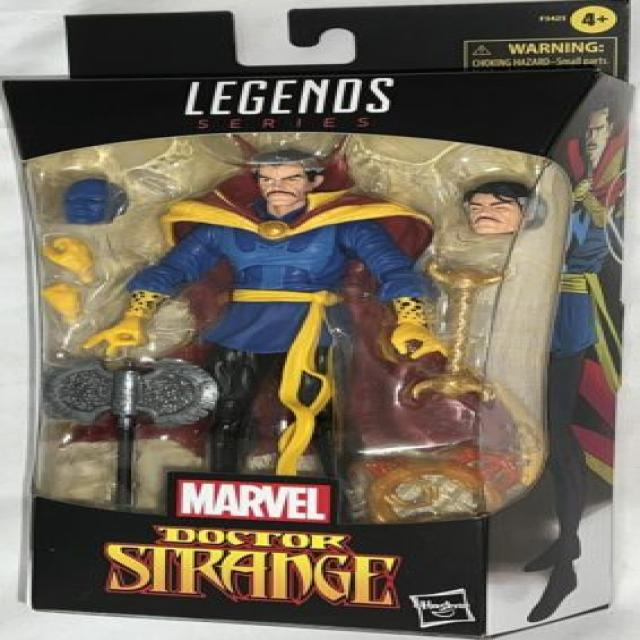doctor_strange: (173, 148, 412, 320)
